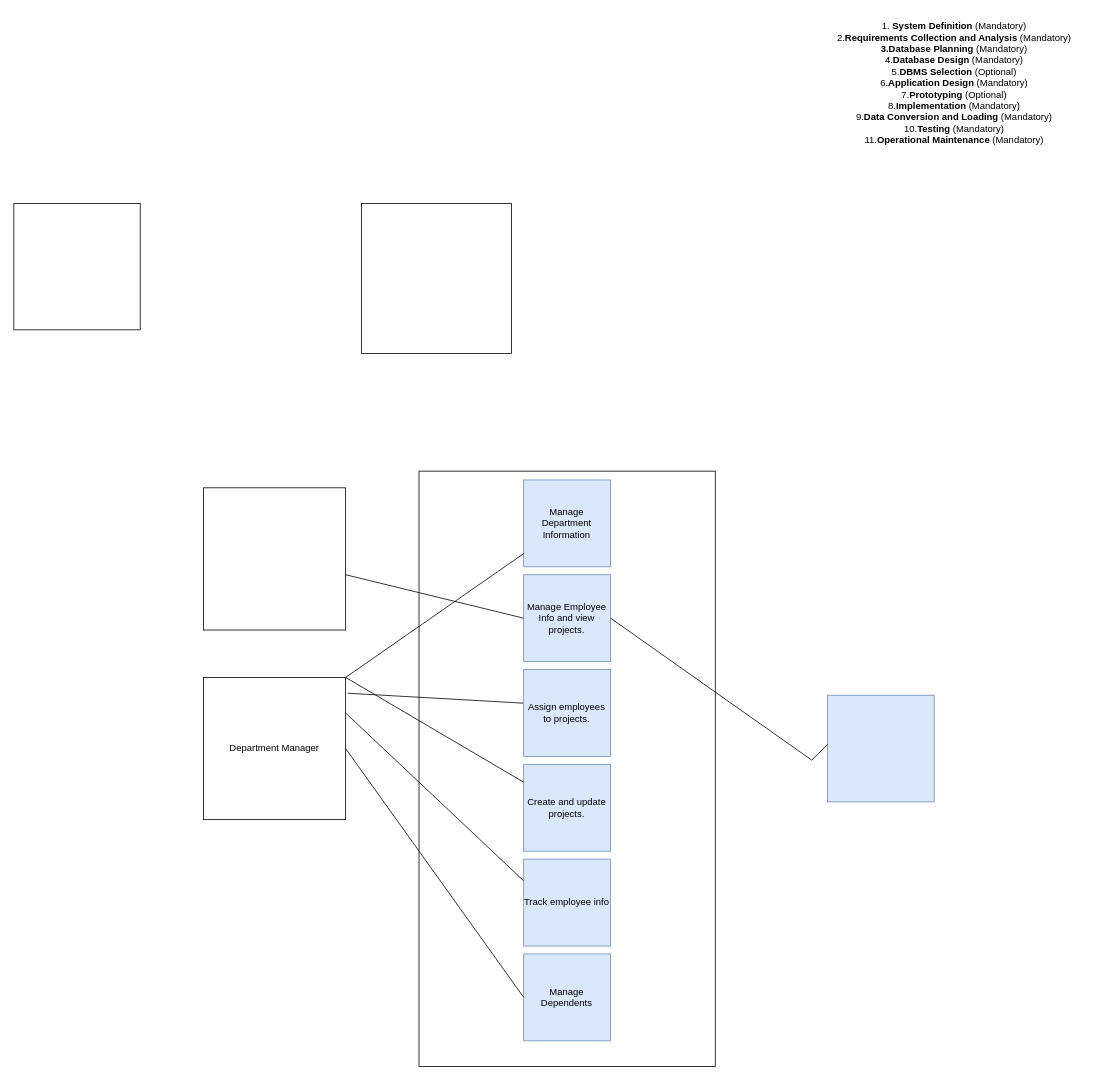
Image size: 1094x1080. Some labels were removed from this diagram. The centre of each missing label's shape, as x and y in pixels:
"Employee" belongs at (274,558).
"Manage Employee" belongs at (76,266).
"Project Information" belongs at (436,278).
"System tracks and stores employee info." belongs at (880,748).
